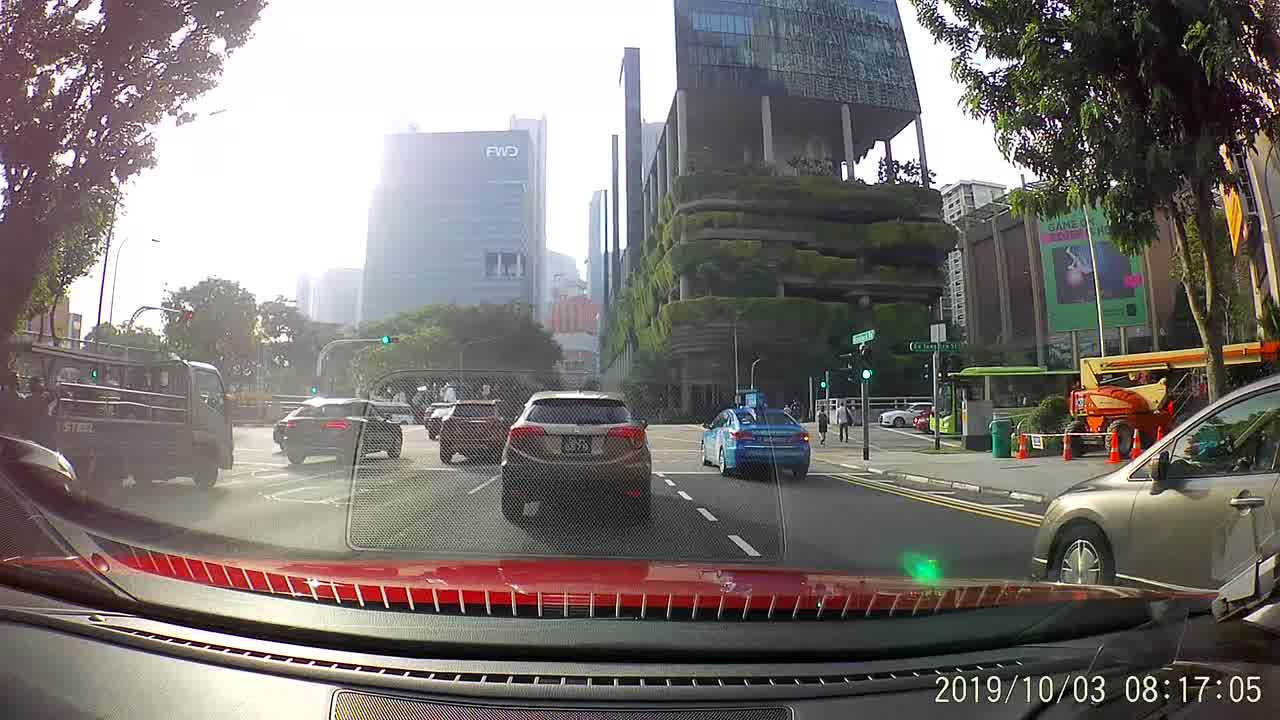car: (1029, 366, 1279, 590), (502, 385, 651, 526), (280, 385, 406, 466), (703, 388, 812, 479), (440, 396, 510, 463), (880, 397, 934, 432), (429, 406, 455, 442)
